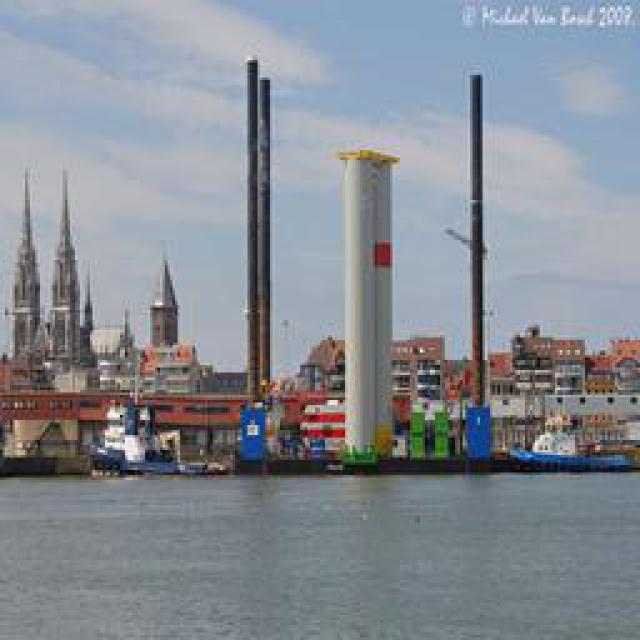Ship: (510, 442, 640, 472)
